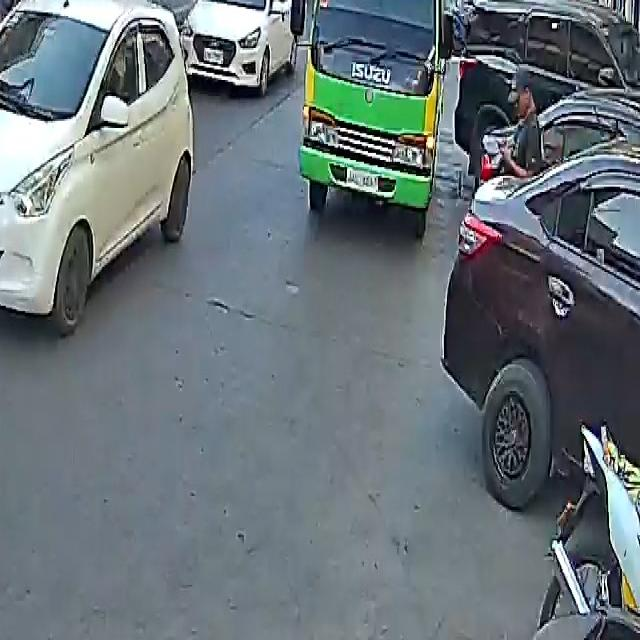car: (444, 94, 640, 524), (0, 0, 197, 329), (182, 0, 295, 96), (70, 0, 199, 23)
